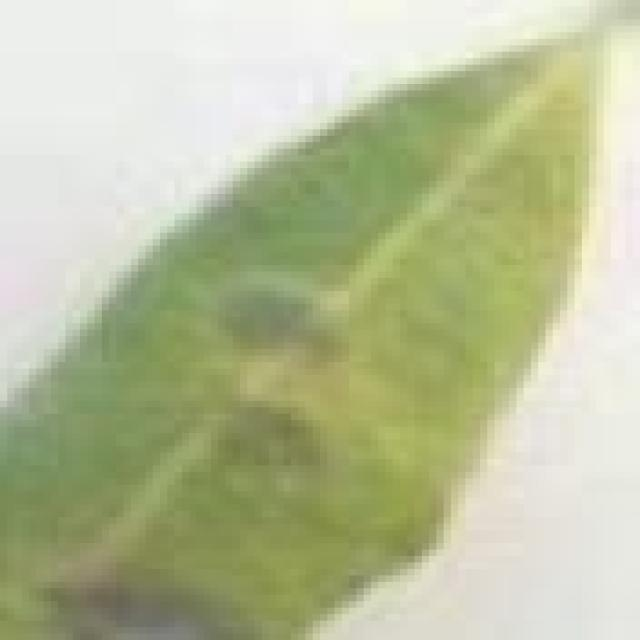Peacock Eye: (0, 32, 596, 634)
